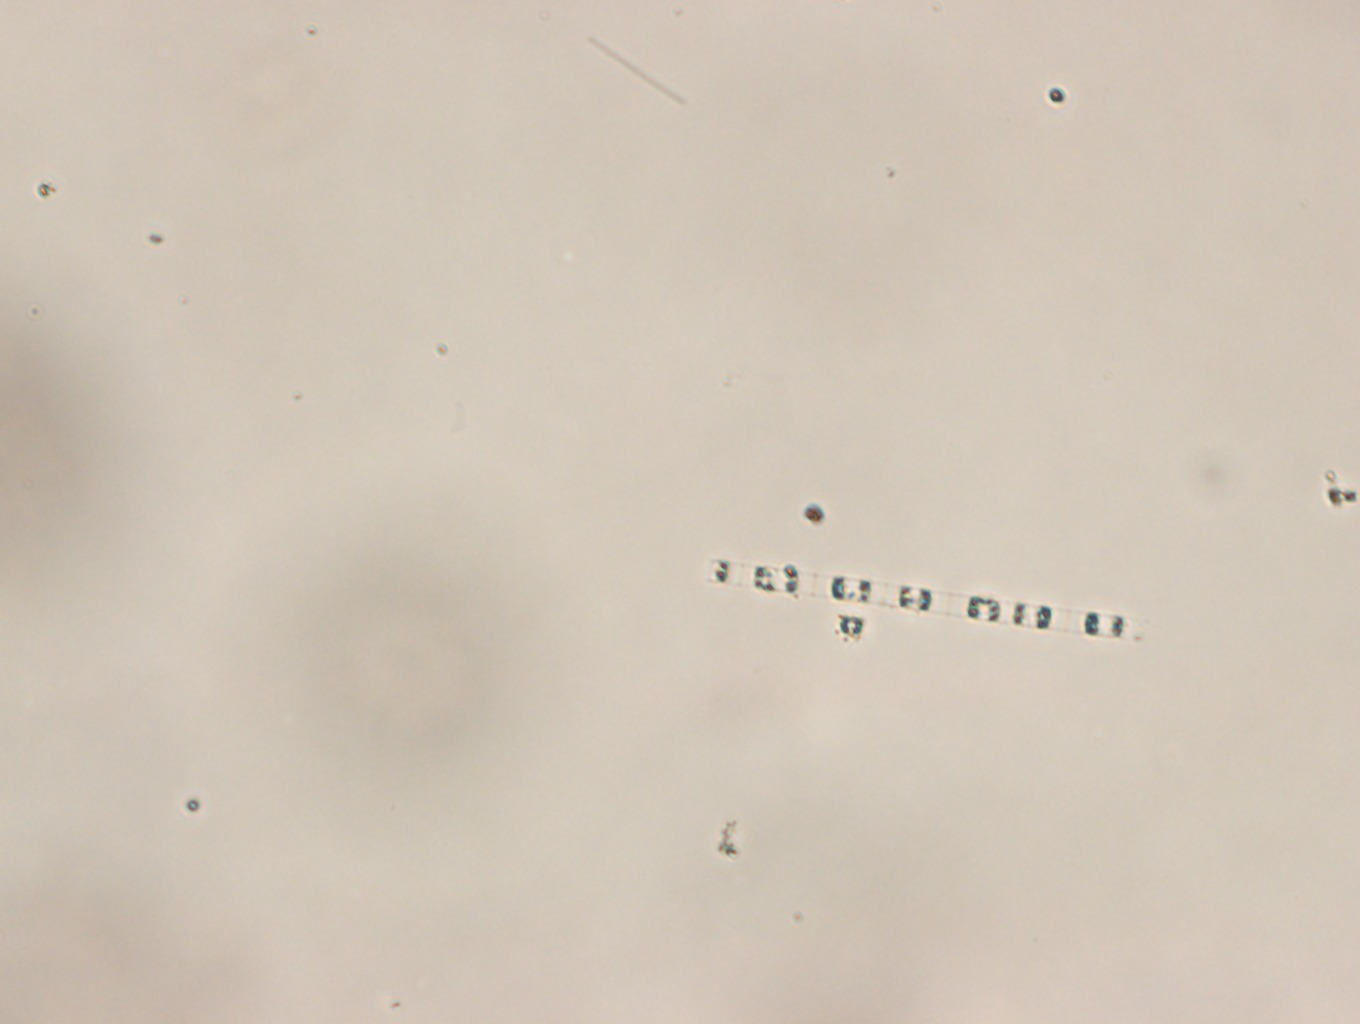skeletonema: (706, 556, 1132, 642)
